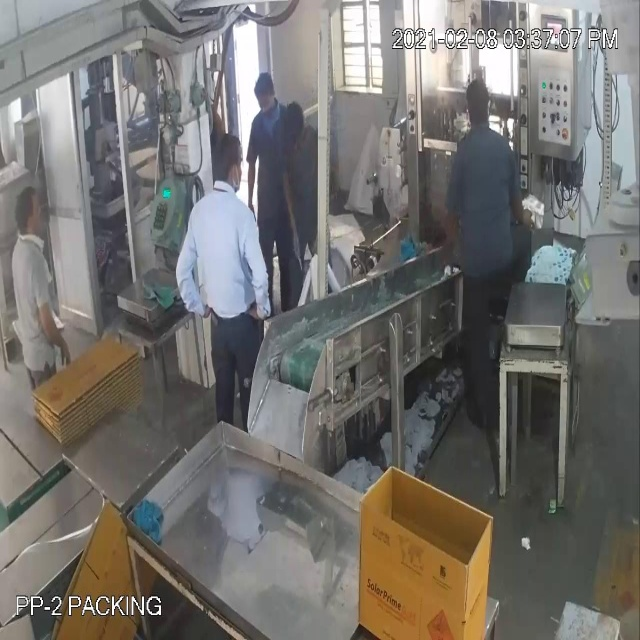Sin_guantes: (240, 222, 271, 338), (171, 233, 206, 317), (40, 289, 78, 365)
